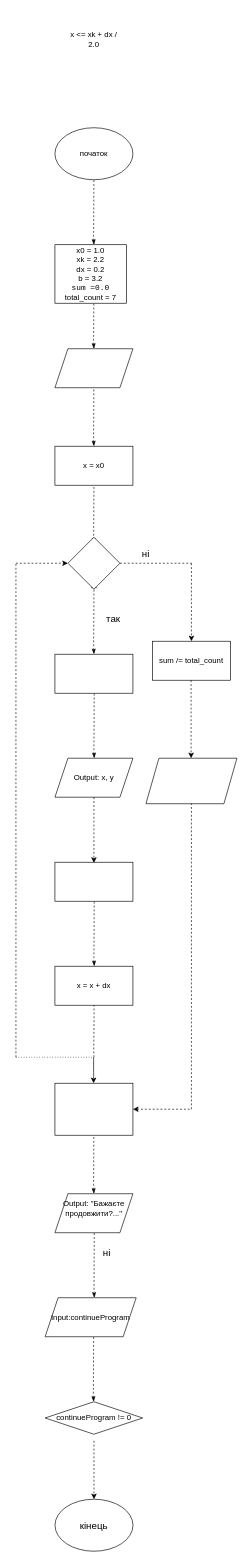
Image size: 248x1563. Some labels were removed from this diagram. The shapes that lost their labels are listed below. From the top down, each one's box as (x1, y1, x2, y2) in pixels, then its label:
(54, 348, 133, 388): Output: "x\ty(x)"
(54, 654, 133, 693): y = 9.0 * (pow(x, 3) + pow(b, 3)) * tan(x)
(145, 758, 237, 804): Output: "\nСереднє арифметичне значень y(x) = ", sum
(54, 862, 133, 901): sum += y
(54, 1083, 133, 1135): system("pause")
